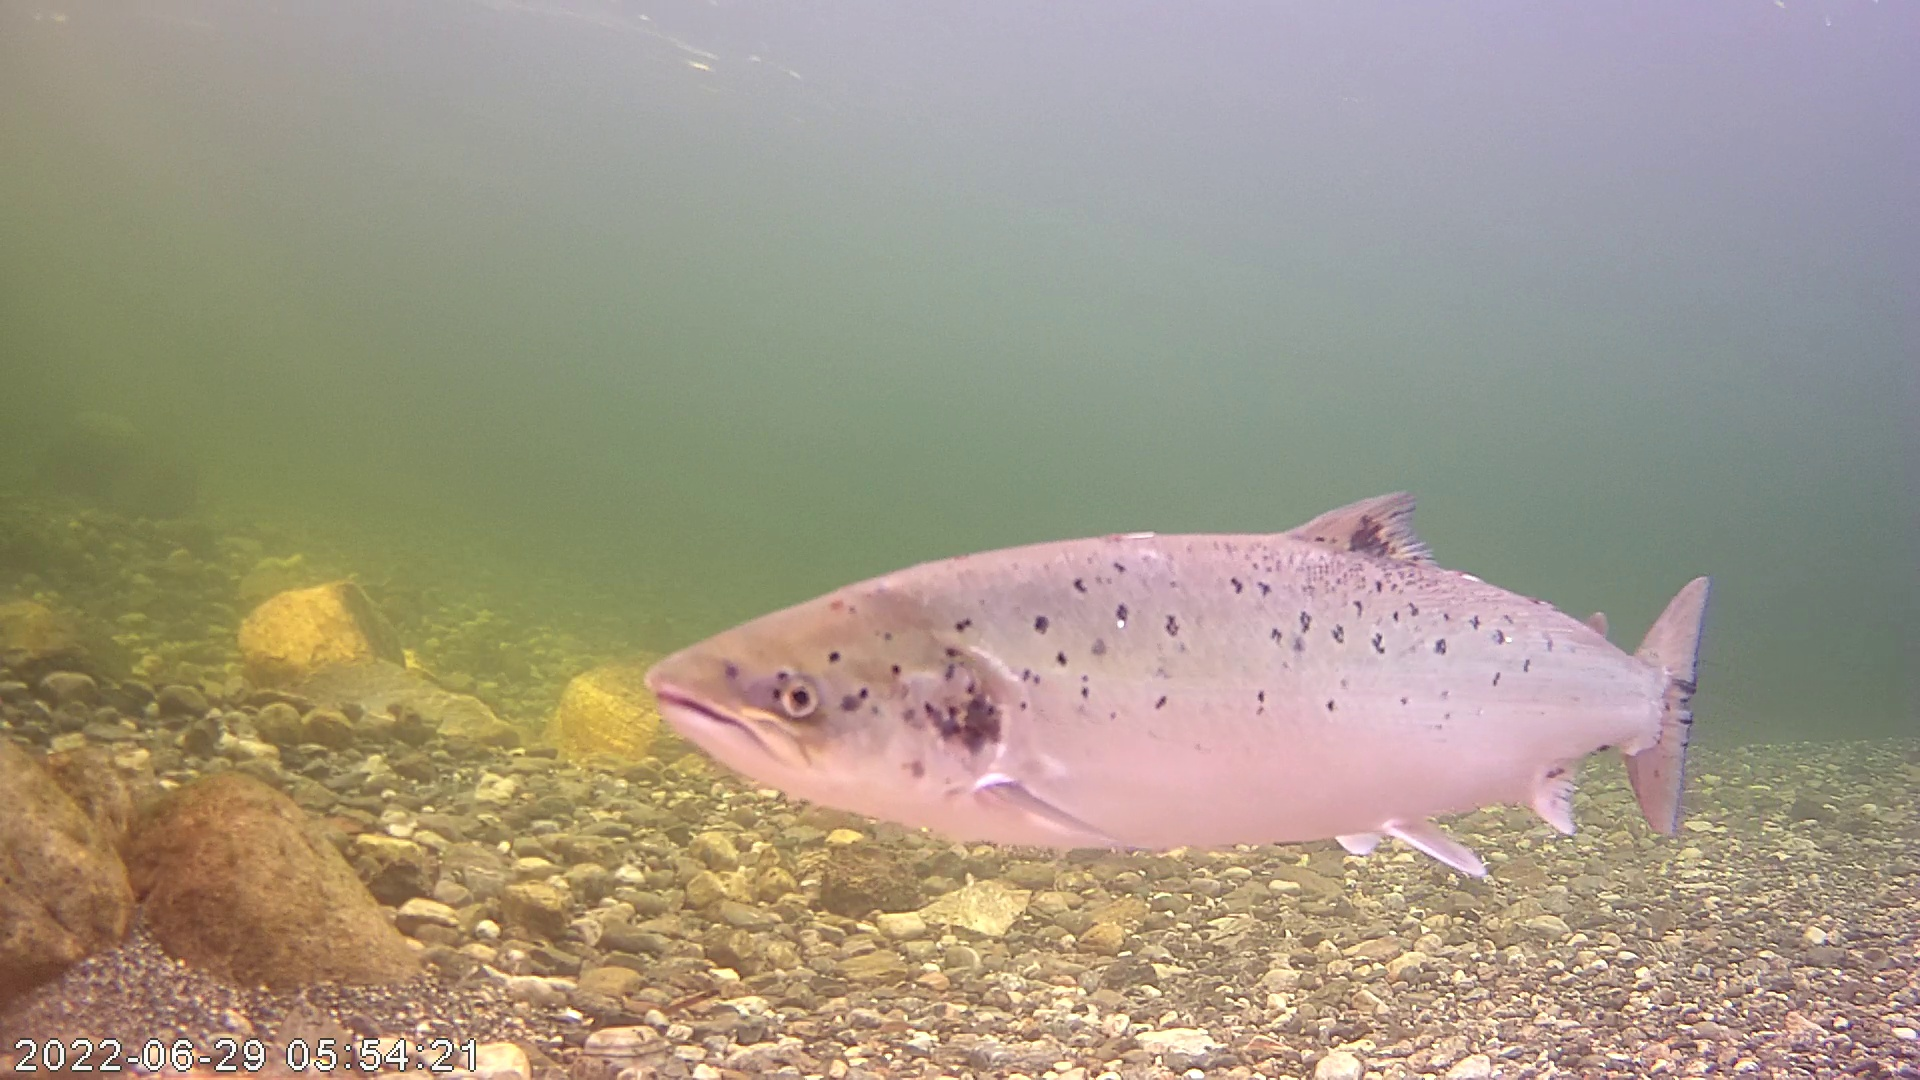salmon: (646, 372, 1724, 868)
